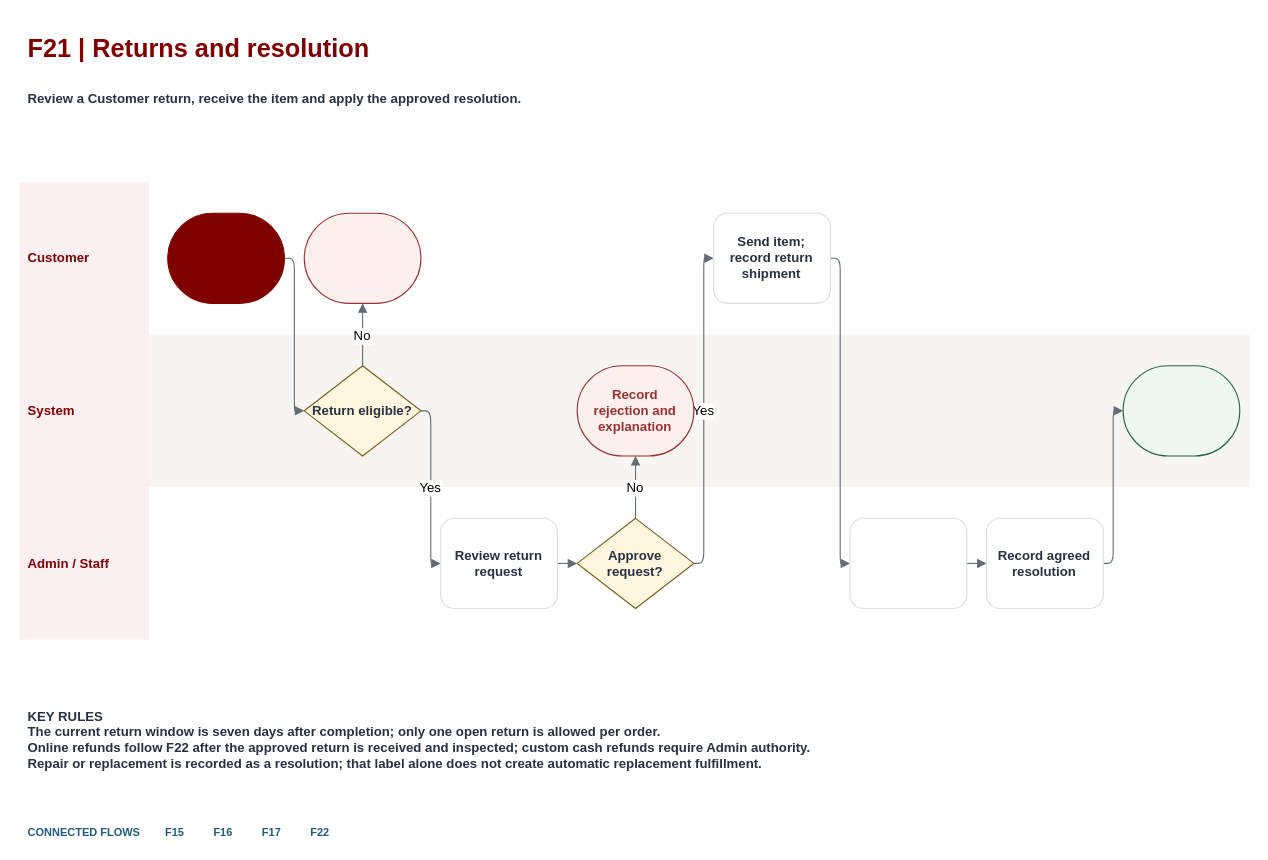
The diagram is 1268 pixels wide and 860 high, and some of its shapes have lost their labels. Here are the shapes that lost their labels. From the top down, the box of each, then its label:
(167, 212, 284, 303): Select items, evidence and reason
(303, 212, 421, 303): Read eligibility reason
(1122, 365, 1240, 456): Retain return and financial history
(849, 517, 967, 609): Receive and inspect item
